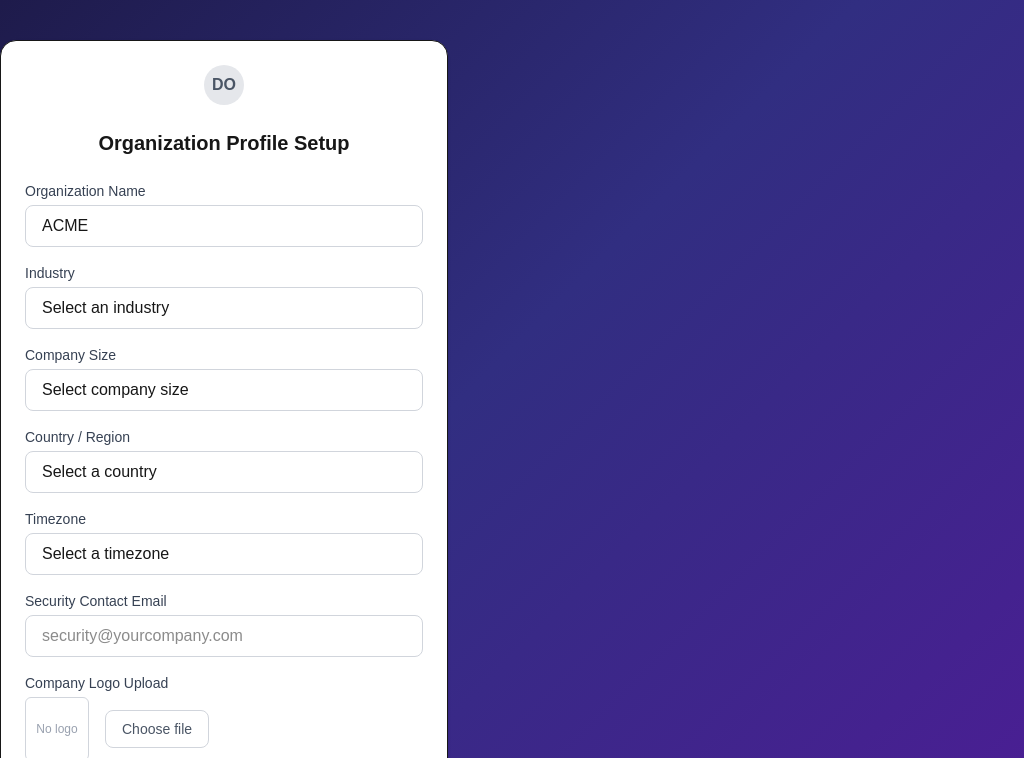
it: OrgProfileForm › shows agency type field when industry is government
The width and height of the screenshot is (1024, 758).
Note: Change industry to government
Select "Government" in the dropdown labelled "Industry" at [224, 308], box [25,287,423,329]
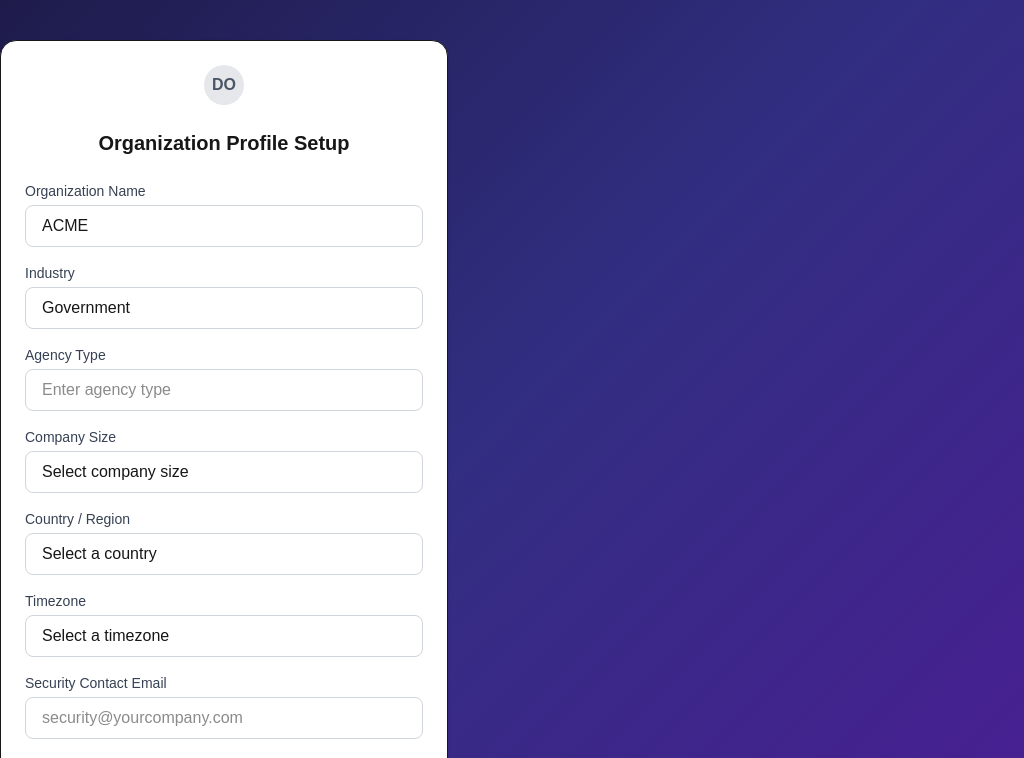
Now the field labelled "Agency Type" is shown, box [25,369,423,411]
